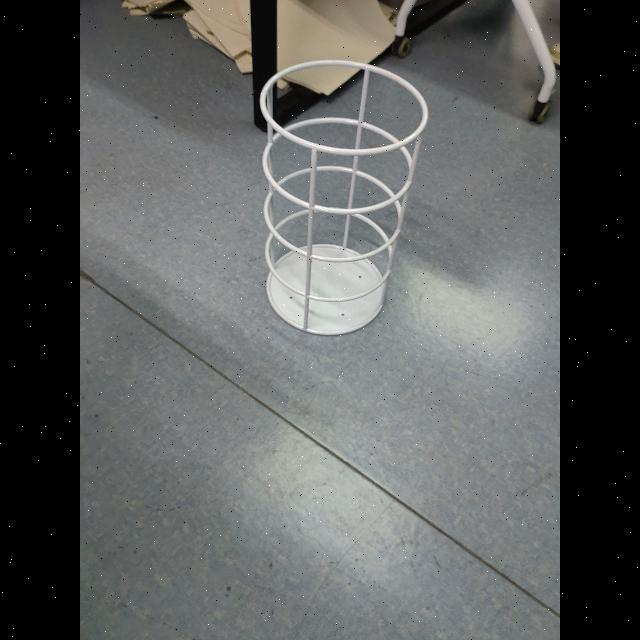S: (253, 56, 432, 340)
